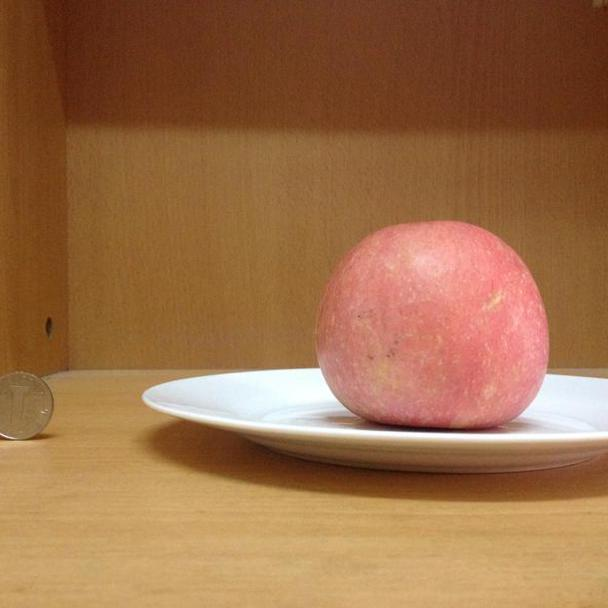apple: (315, 221, 558, 432)
